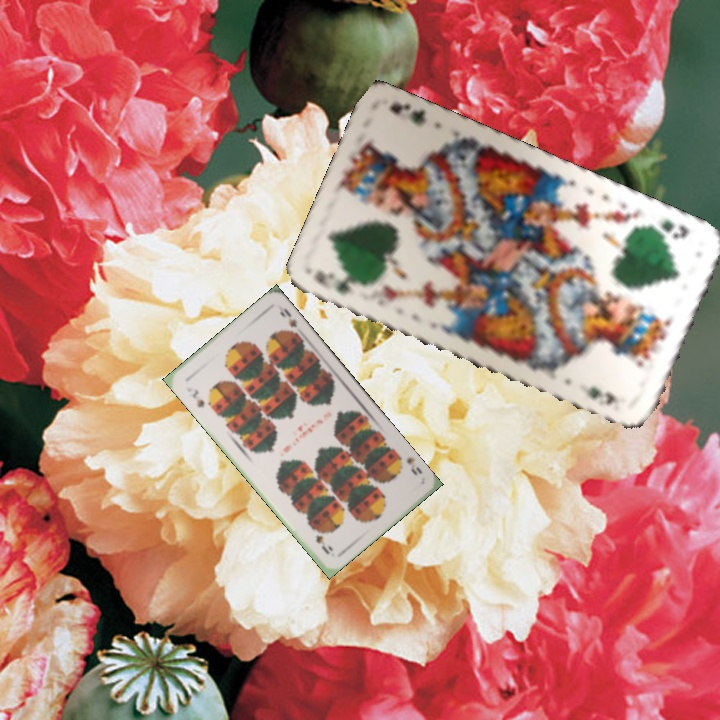GK: (310, 266, 368, 298), (644, 216, 693, 242)
S9: (393, 449, 425, 478), (188, 385, 207, 411)
